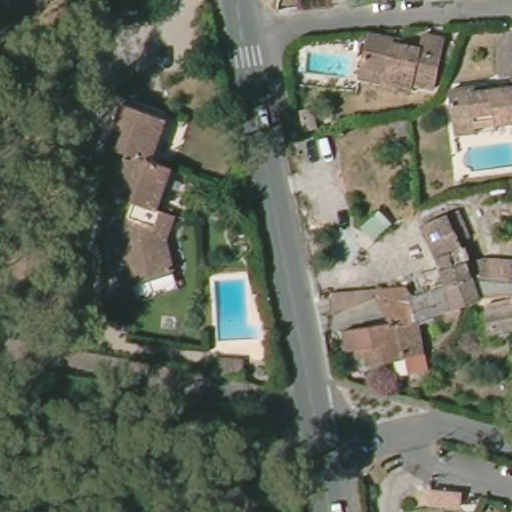pool: (205, 271, 263, 346), (299, 46, 360, 86), (461, 140, 512, 174)
